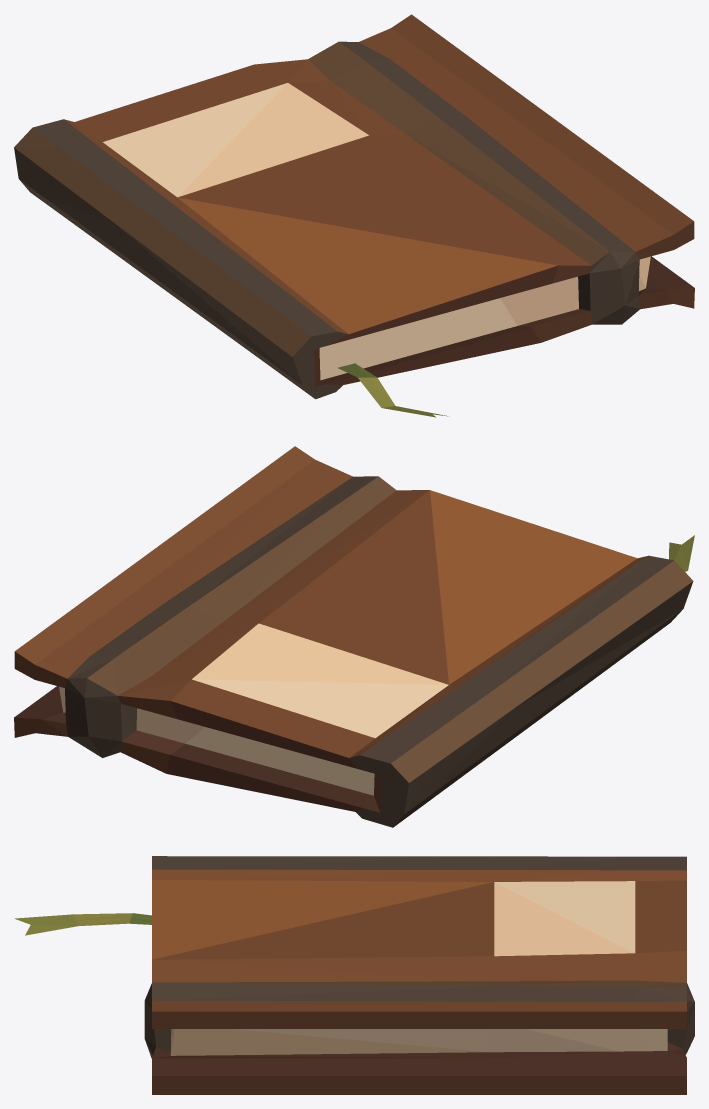
Rendered from notebook.fbx.
3 renders of one model, top to bottom at view 1: azimuth 30°, elevation 25°; view 2: azimuth 150°, elevation 25°; view 3: azimuth 270°, elevation 25°, orthographic. The views are drawn at different scales.
Parts seen in each view (by area): view 1: notebook; view 2: notebook; view 3: notebook.
Boxes of the visible parts, left/top/right/bottom form: notebook: left=14, top=14, right=694, bottom=417; notebook: left=14, top=446, right=694, bottom=827; notebook: left=15, top=856, right=694, bottom=1094.
Size of the model in its own units: 22.2 by 4.61 by 34.37.
